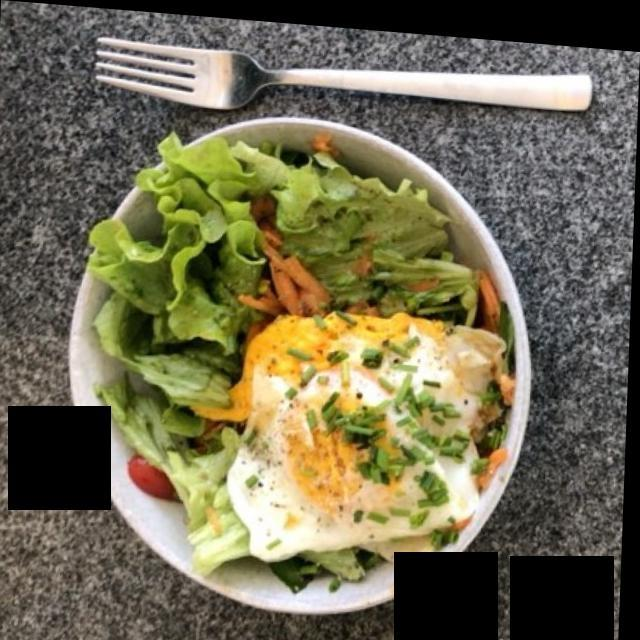carrot: (215, 241, 348, 421)
egg: (236, 298, 497, 575)
salad: (92, 149, 500, 561)
